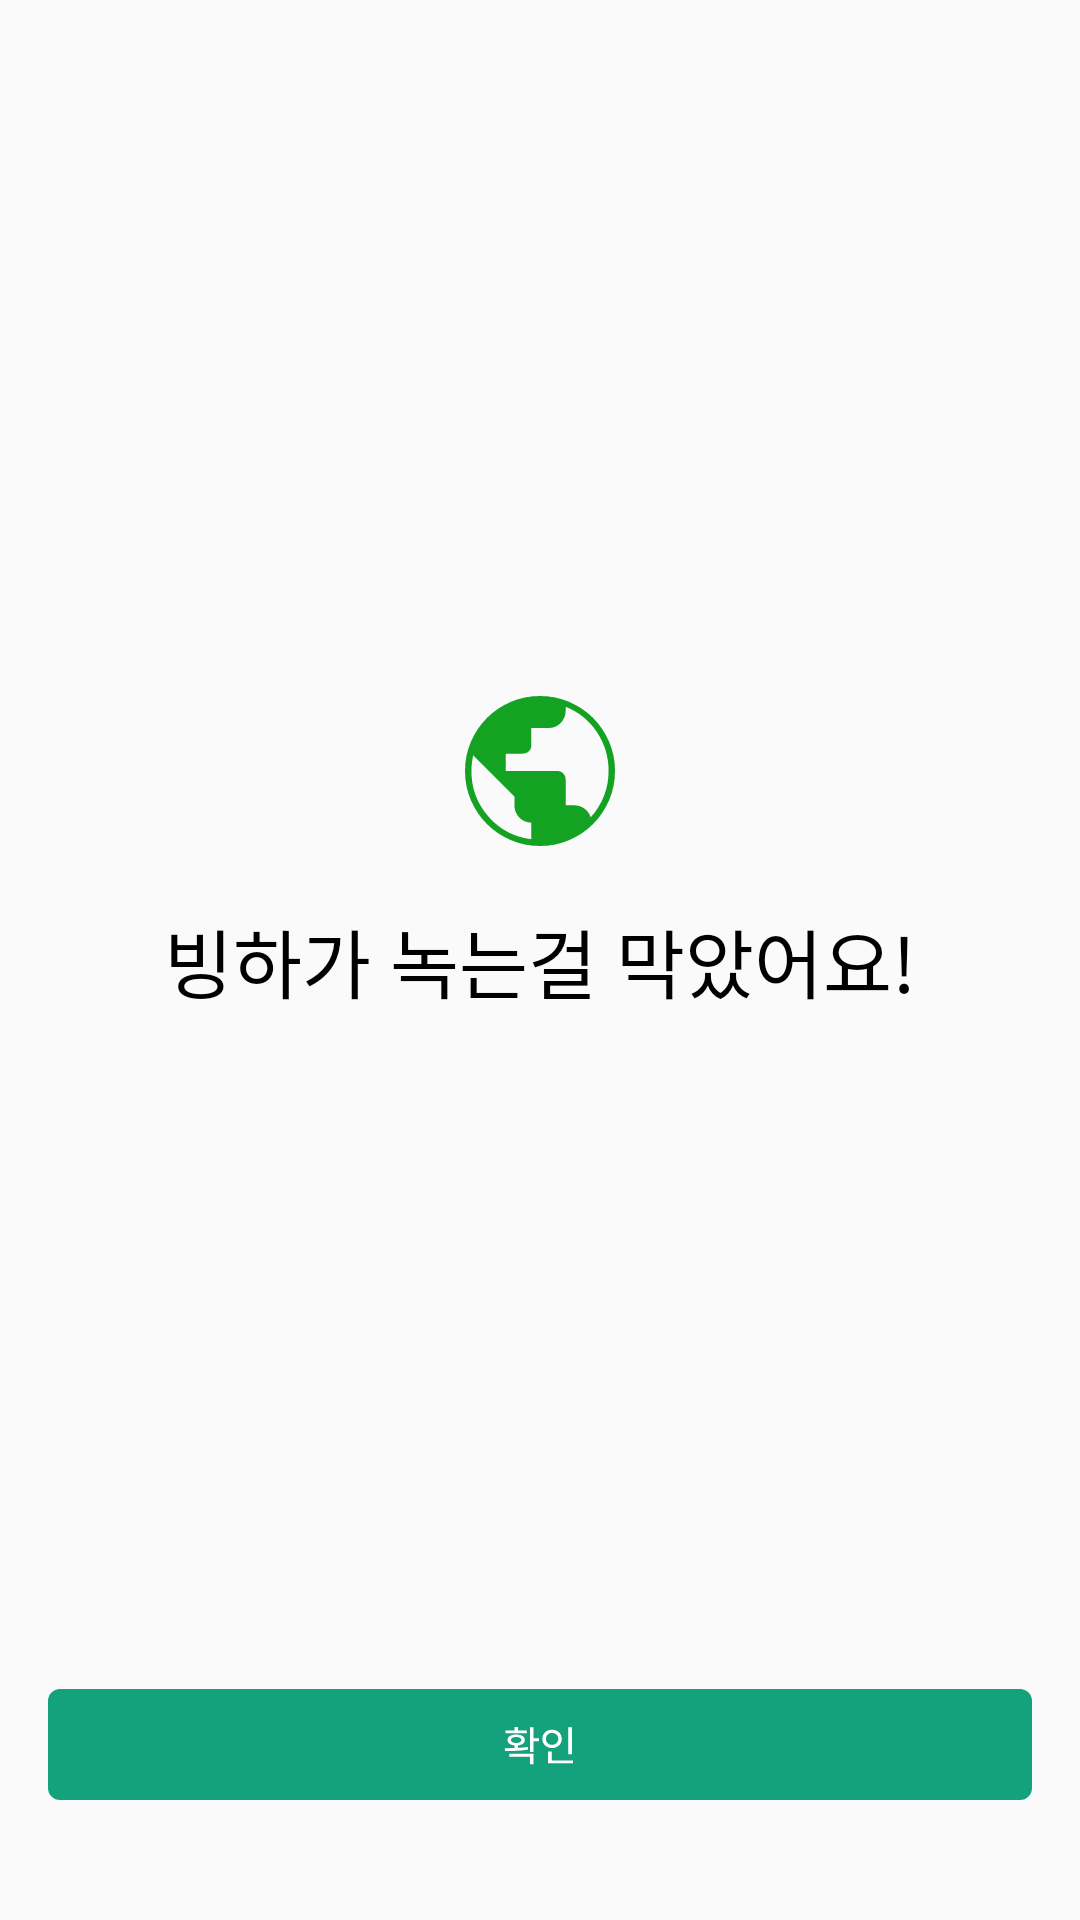

Locate icon controls on the screen. Image size 1080x1920, boxes as (x1, y1, x2, y2).
earth: (465, 696, 615, 846)
